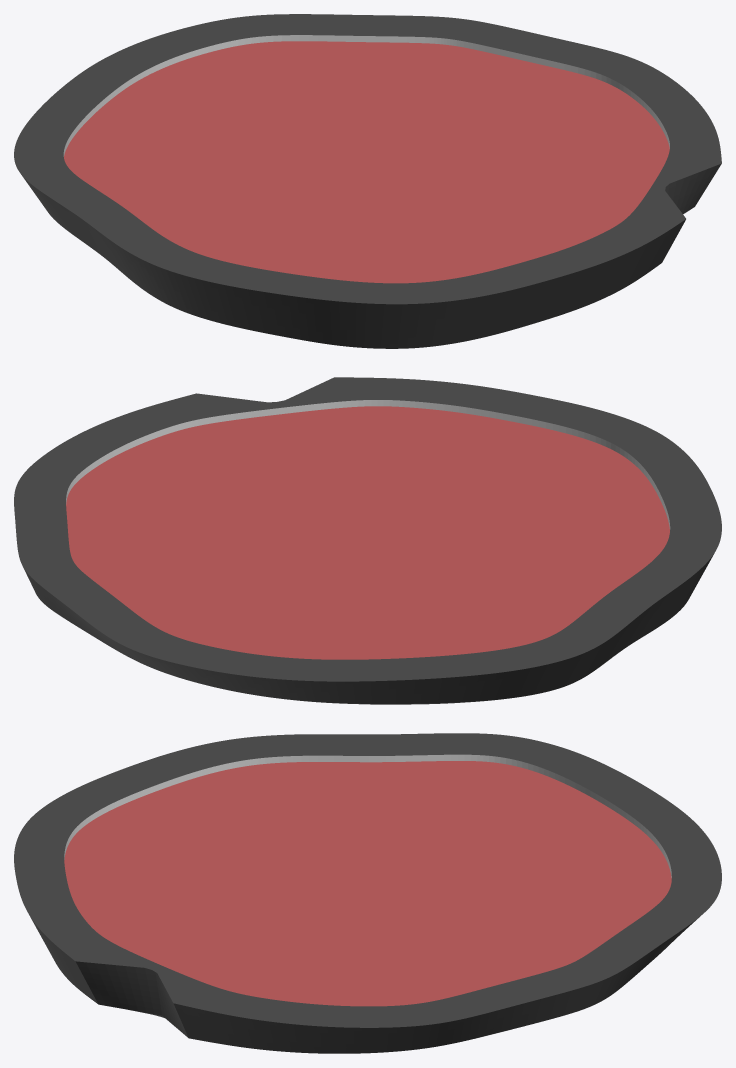
Rendered from Platform_Type01.fbx.
3 renders of one model, top to bottom at view 1: azimuth 30°, elevation 25°; view 2: azimuth 150°, elevation 25°; view 3: azimuth 270°, elevation 25°, orthographic. The views are drawn at different scales.
Visible parts, largest first — view 1: Platform_Type01; view 2: Platform_Type01; view 3: Platform_Type01.
Boxes of the visible parts, x1,y1,x2,y2 form: Platform_Type01: (14,14,721,348); Platform_Type01: (14,377,721,704); Platform_Type01: (14,733,721,1053).
Bounding box in the file's own units: 435 × 76.87 × 447.
